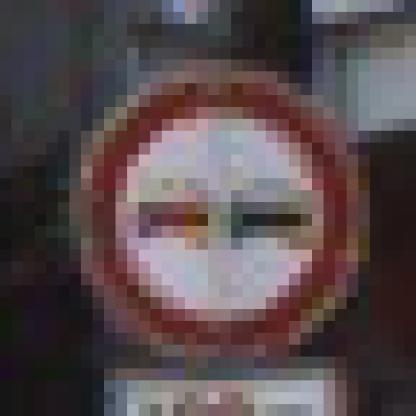No Overtaking: (71, 61, 360, 358)
